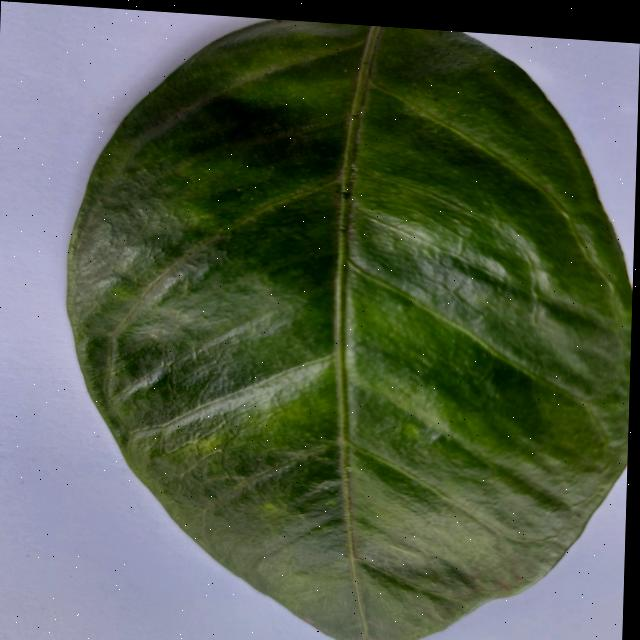greening: (67, 18, 632, 640)
